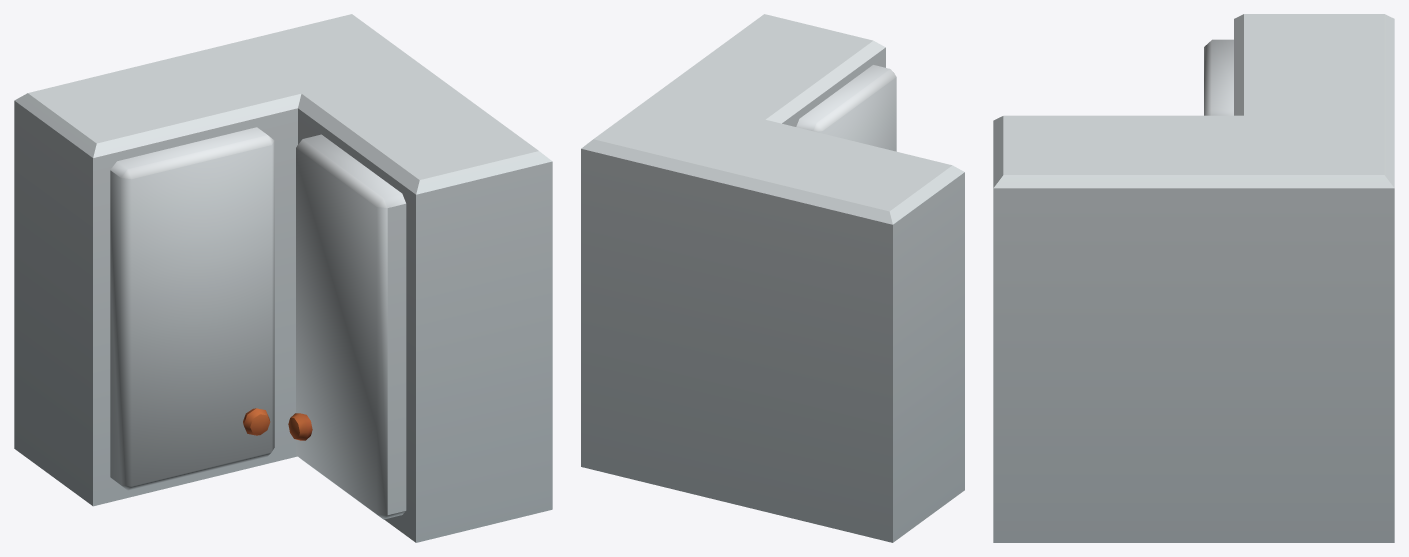
File: kay-kitchencabinet_corner.glb
The picture shows the model from 3 angles, left to right: view 1: azimuth 30°, elevation 25°; view 2: azimuth 150°, elevation 25°; view 3: azimuth 270°, elevation 25°; orthographic projection. The views are drawn at different scales.
Visible parts, largest first — view 1: kitchencabinet_corner; view 2: kitchencabinet_corner; view 3: kitchencabinet_corner.
Part boxes in pixels (x1=…): kitchencabinet_corner: x1=14, y1=14, x2=552, y2=542; kitchencabinet_corner: x1=581, y1=14, x2=964, y2=542; kitchencabinet_corner: x1=993, y1=14, x2=1394, y2=542.
Bounding box in the file's own units: 1.6 × 1.6 × 1.6.
Materials: 1 (1 with a texture image).
